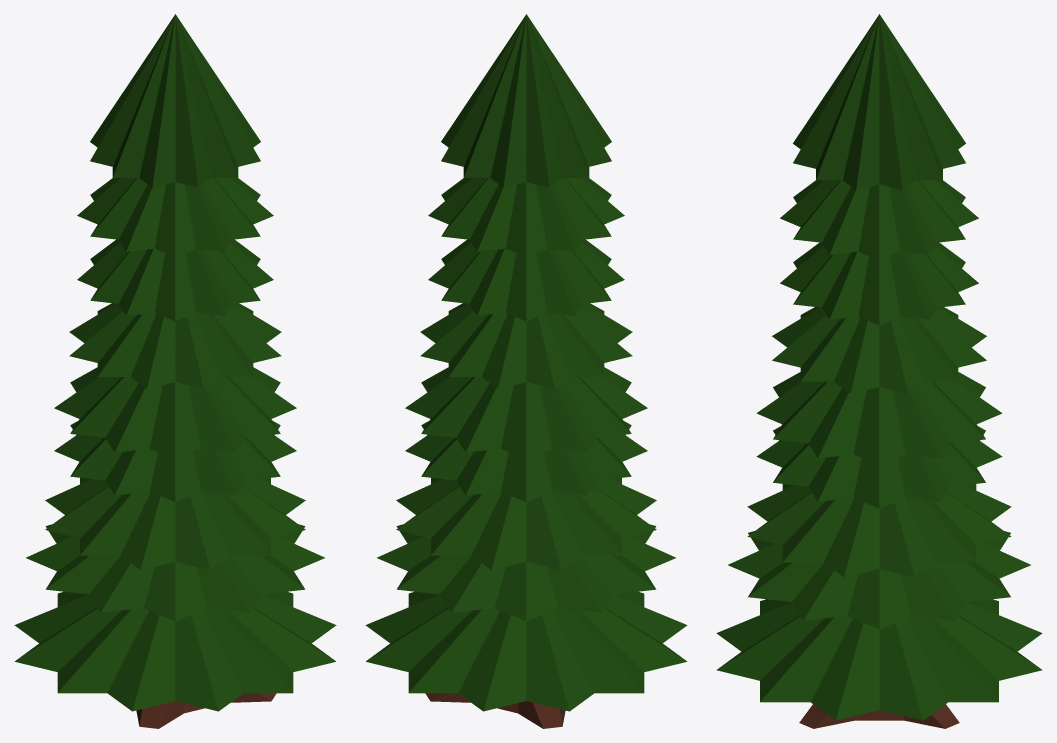
File: Tannenbaum3.fbx
3 renders of one model, left to right at view 1: azimuth 30°, elevation 25°; view 2: azimuth 150°, elevation 25°; view 3: azimuth 270°, elevation 25°, orthographic.
Visible parts, largest first — view 1: mergedBlocks; view 2: mergedBlocks; view 3: mergedBlocks.
Part boxes in pixels (x1,y1,x2,y2): mergedBlocks: (14,14,336,728); mergedBlocks: (365,14,687,728); mergedBlocks: (716,14,1042,728).
Bounding box in the file's own units: 137 × 314 × 137.
